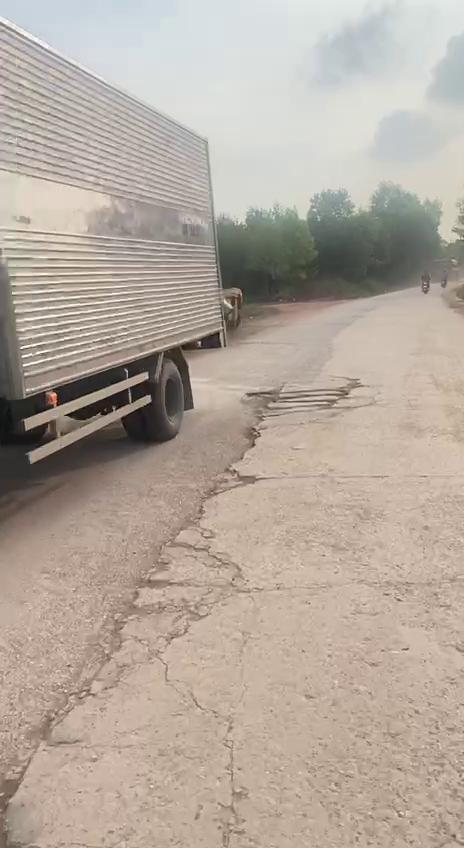pothole: (202, 463, 260, 500)
